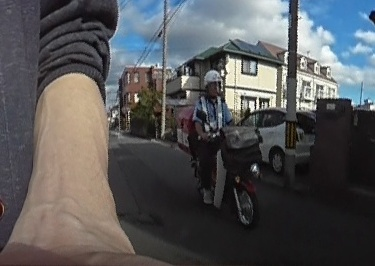person: (198, 67, 229, 184)
